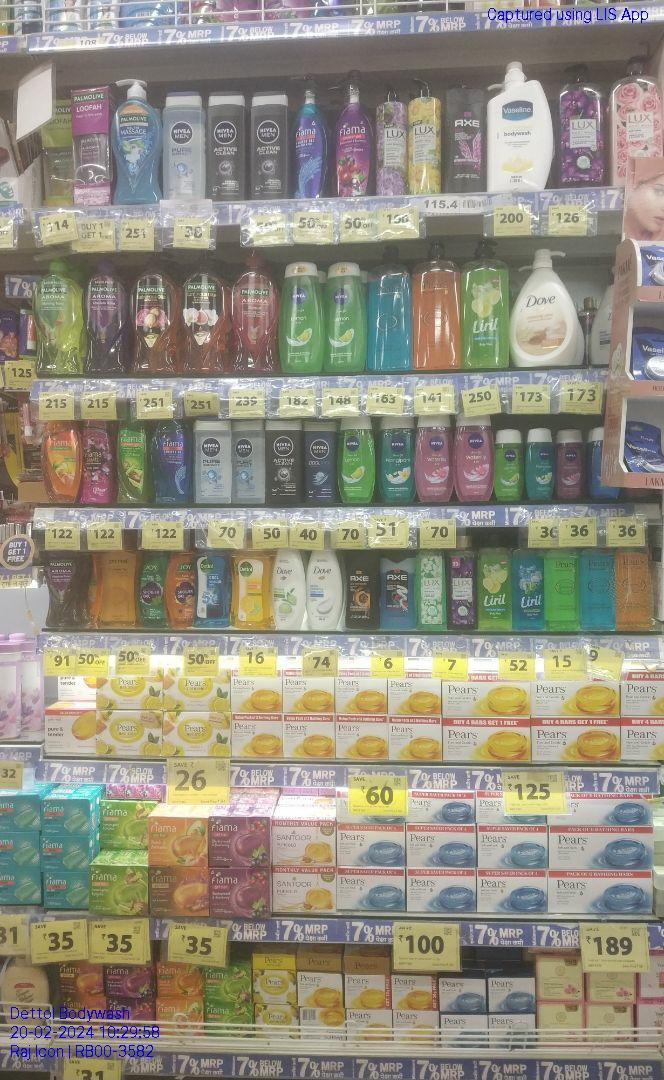Dettol_Bodywash_Cool: (199, 551, 230, 628)
Dettol_Bodywash_Refresh: (233, 551, 270, 630)
Dove_Gentle_Exfoliating_Body_Wash_250ML: (307, 545, 343, 628)
Dove_Refreshing_Body_Wash_250ML: (274, 547, 303, 628)
Get_Real_Shower_Gel_Moisturising_Glycerin_300ML: (91, 547, 137, 627)
Joy_Shower_Gel_Mandarin_and_Lemongrass_250ML: (169, 552, 196, 626)
Joy_Shower_Gel_Mint_and_Eucalyptus_250ML: (140, 552, 167, 625)
Liril_Cooling_Mint_Body_Wash_250ML: (515, 546, 543, 630)
Liril_Lime_and_Tea_Tree_Oil_Body_Wash_250ML: (480, 530, 512, 630)
Lux_Black_Orchid_Scent_and_Juniper_Oil_Body_Wash_245ML: (447, 548, 475, 628)
Lux_Body_Wash_Skin_Detox_Freesia_Scent_and_Alove_Vera_245ML: (417, 551, 446, 631)
Nivea_Shower_Gel_Frangipani_and_Oil_250ML: (378, 419, 414, 503)
Nivea_Shower_Gel_Lemon_and_Oil_250ML: (280, 265, 322, 374), (325, 262, 366, 370), (338, 416, 374, 502)
Nivea_Shower_Gel_Waterlily_and_Oil_250ML: (455, 416, 493, 500), (415, 413, 451, 501)
Pears_Pure_Glycerin_and_Lemon_Flower_Extracts_Body_Wash_250ML: (546, 548, 580, 630)
Pears_Pure_Glycerin_and_Mint_Extracts_Body_Wash_250ML: (583, 546, 614, 631)
